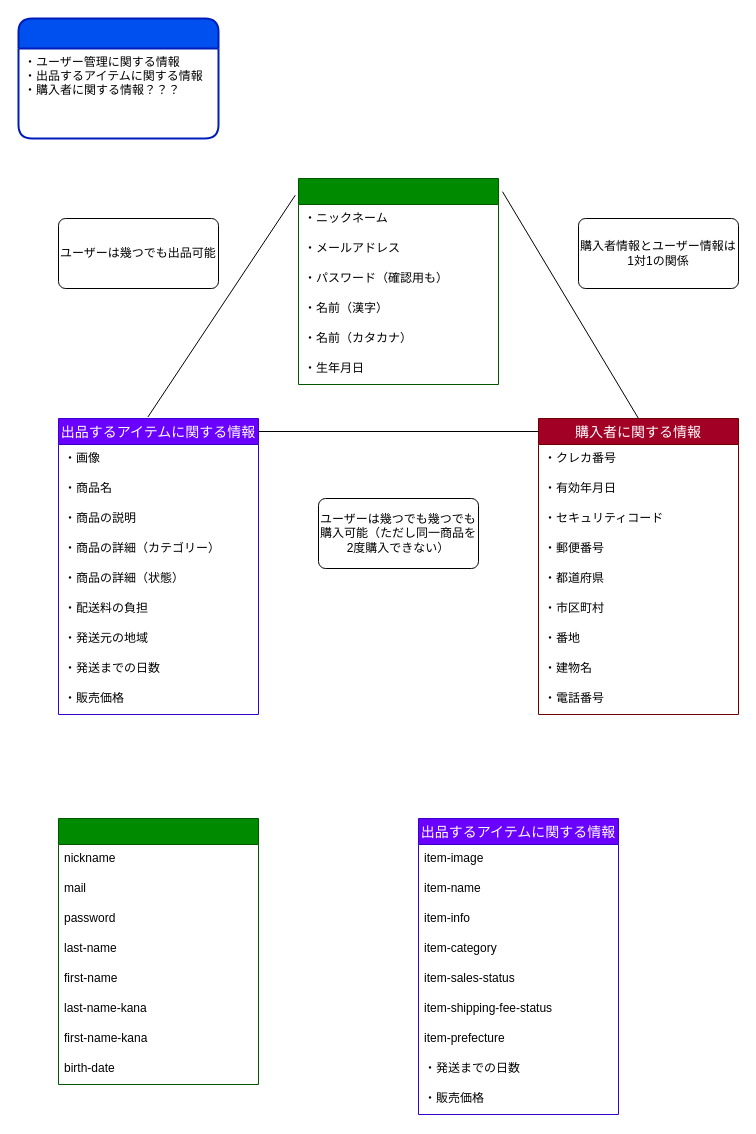
The diagram is 756 pixels wide and 1134 high, and some of its shapes have lost their labels. Each missing label, with the box of its shape:
Entity: (17, 17, 219, 139)
Users Table: (58, 818, 258, 1084)
ユーザー管理に関する情報: (298, 178, 498, 384)
